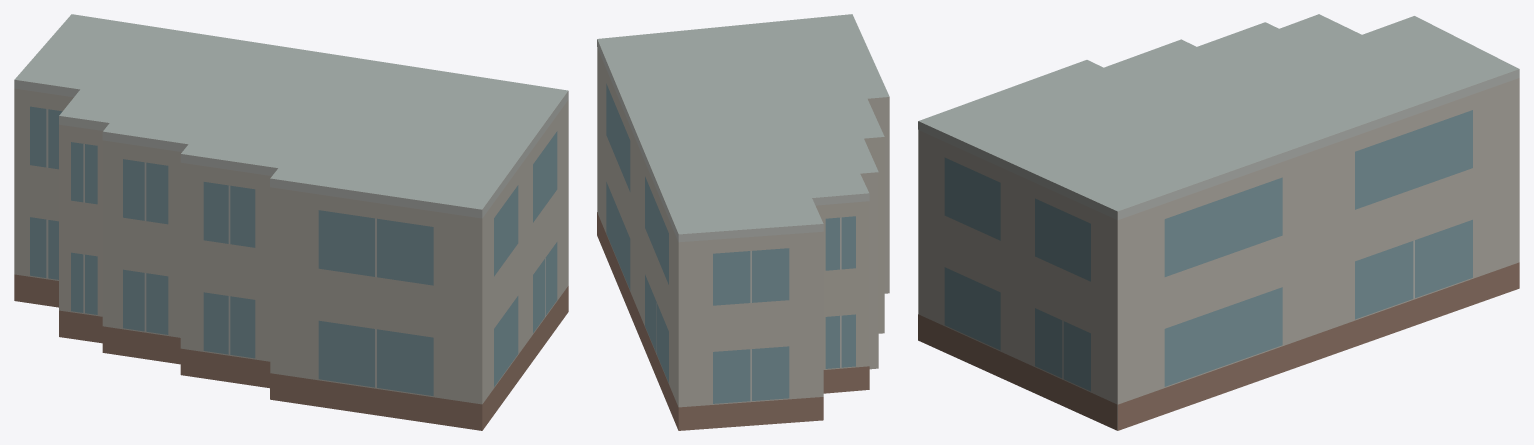
Rendered from survey-upis-32840176.glb.
3 renders of one model, left to right at view 1: azimuth 30°, elevation 25°; view 2: azimuth 150°, elevation 25°; view 3: azimuth 270°, elevation 25°, orthographic. The views are drawn at different scales.
Parts seen in each view (by area): view 1: survey-upis-32840176.tmp; view 2: survey-upis-32840176.tmp; view 3: survey-upis-32840176.tmp.
Boxes of the visible parts, x1,y1,x2,y2 form: survey-upis-32840176.tmp: (14,14,568,430); survey-upis-32840176.tmp: (597,14,889,430); survey-upis-32840176.tmp: (918,14,1519,430).
Bounding box in the file's own units: 11.78 × 6.1 × 15.16.
